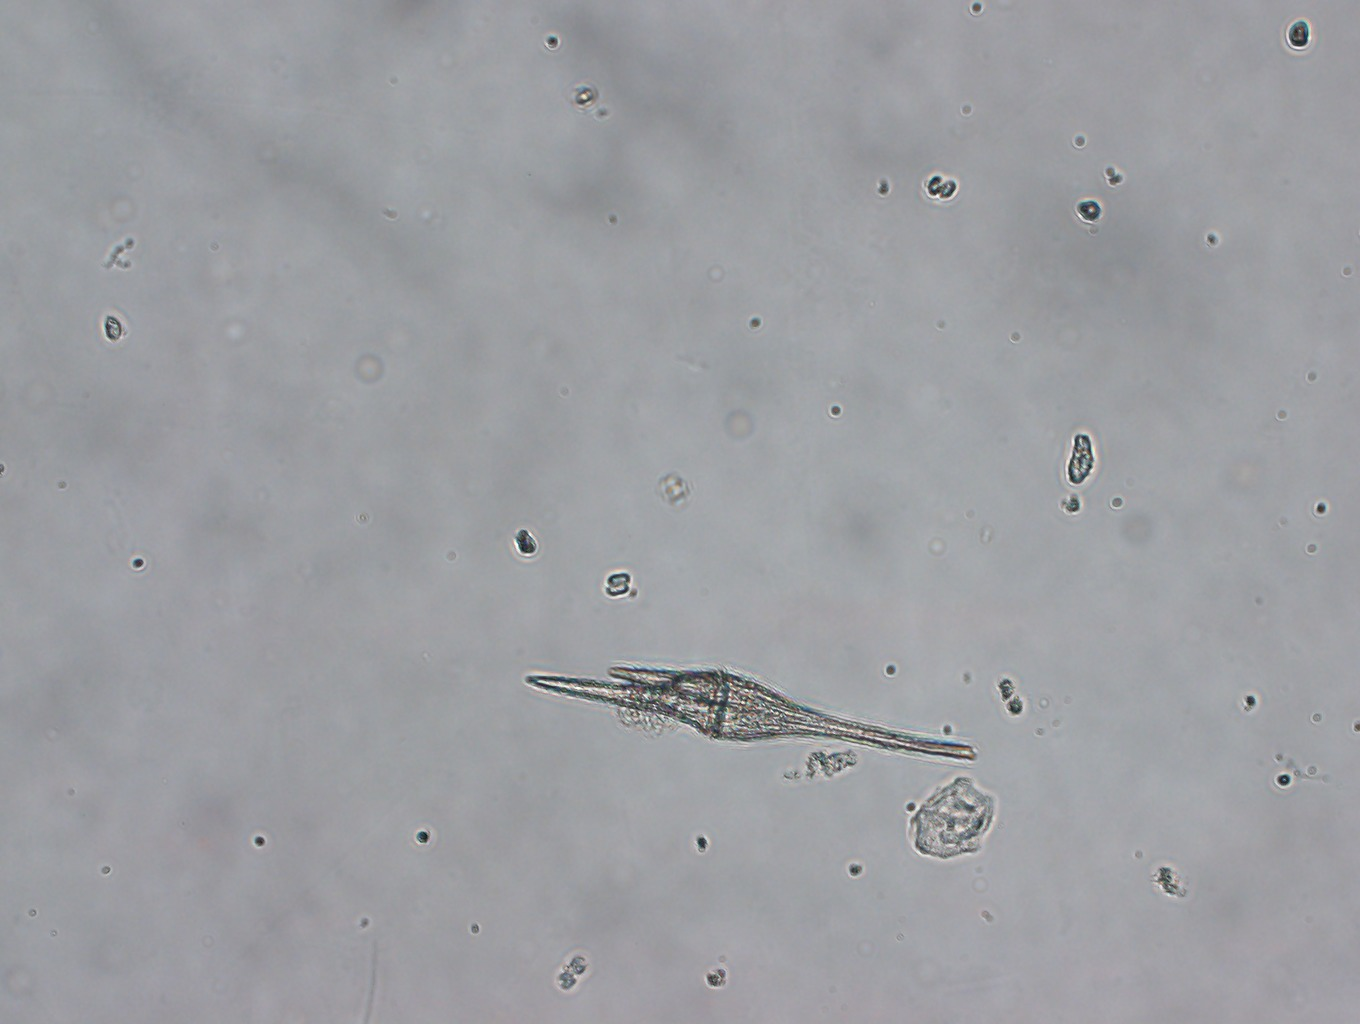ceratium furca: (513, 644, 979, 768)
